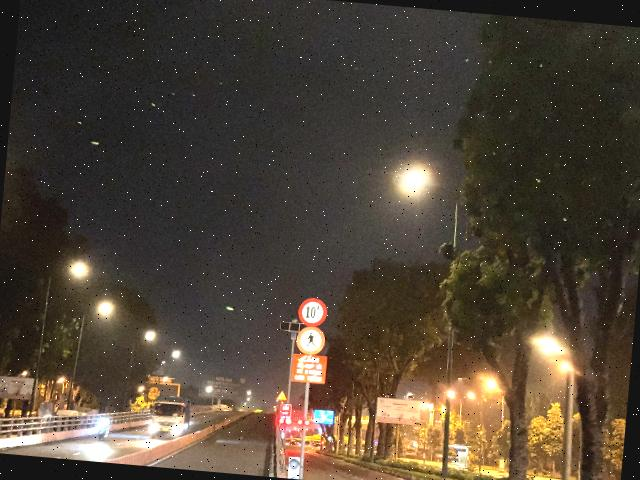cam-nguoi-di-bo: (295, 326, 326, 356)
han-che-trong-luong-xe: (296, 296, 328, 327)
